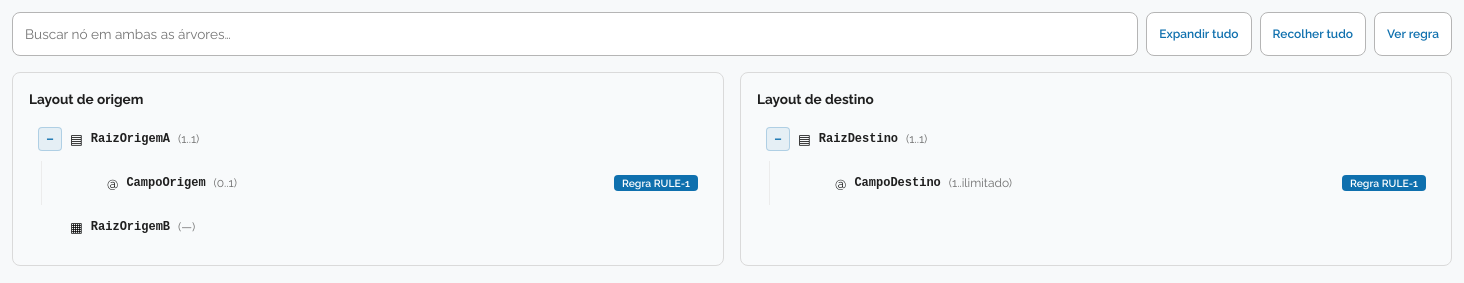
Test case: MappingLayoutTreeView › expande e recolhe tudo via toolbar
Expected: the text "CampoOrigem" is shown, [126, 176, 206, 190]
Click the button "Recolher tudo".
click(1313, 34)  # box [1260, 12, 1366, 56]
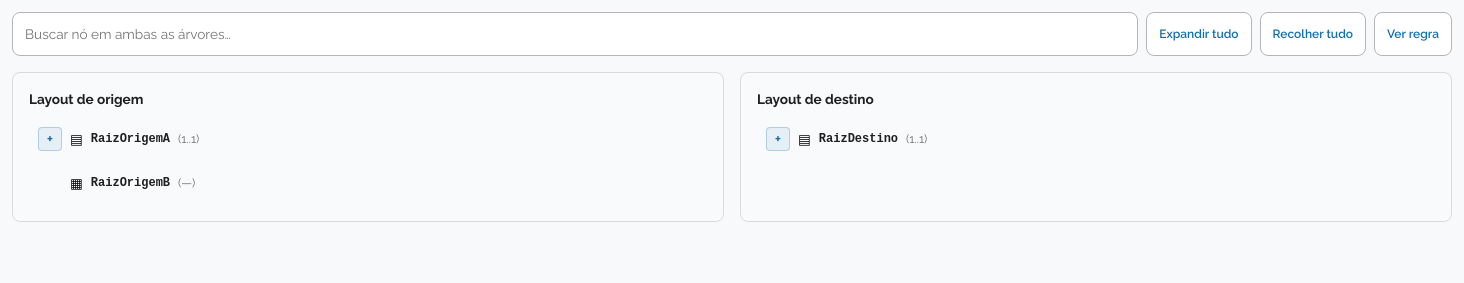
Now the list item "CampoOrigem" is gone
Click the button "Expandir tudo".
click(1199, 34)  # box [1146, 12, 1252, 56]
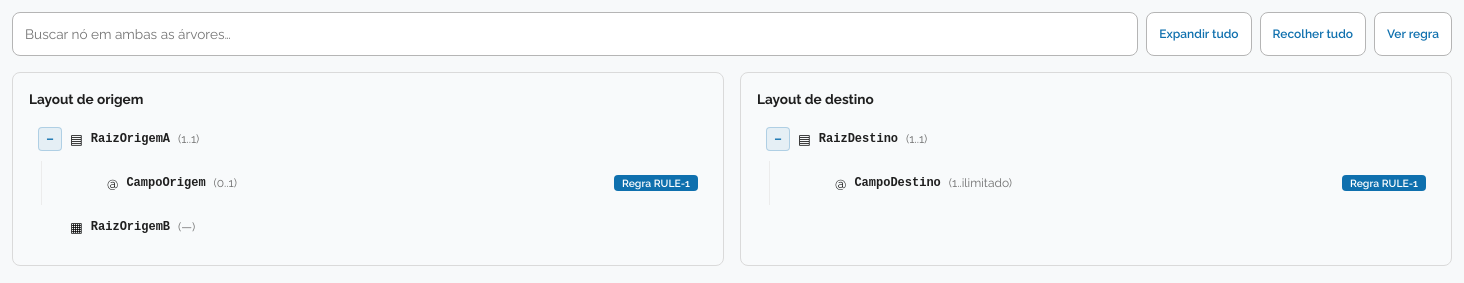
Now the text "CampoOrigem" is shown, box [126, 176, 206, 190]
